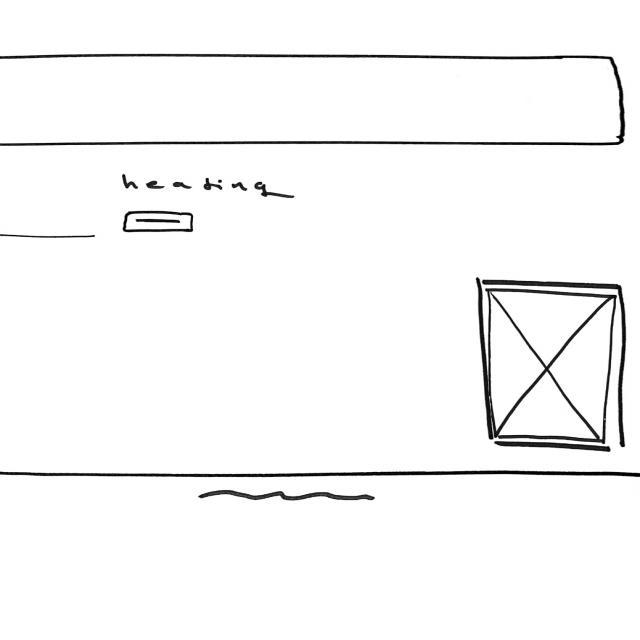container: (1, 54, 626, 151), (477, 278, 633, 455)
icon-button: (124, 211, 196, 235)
image: (486, 289, 616, 443)
label: (122, 174, 298, 202)
text: (198, 487, 378, 505)
